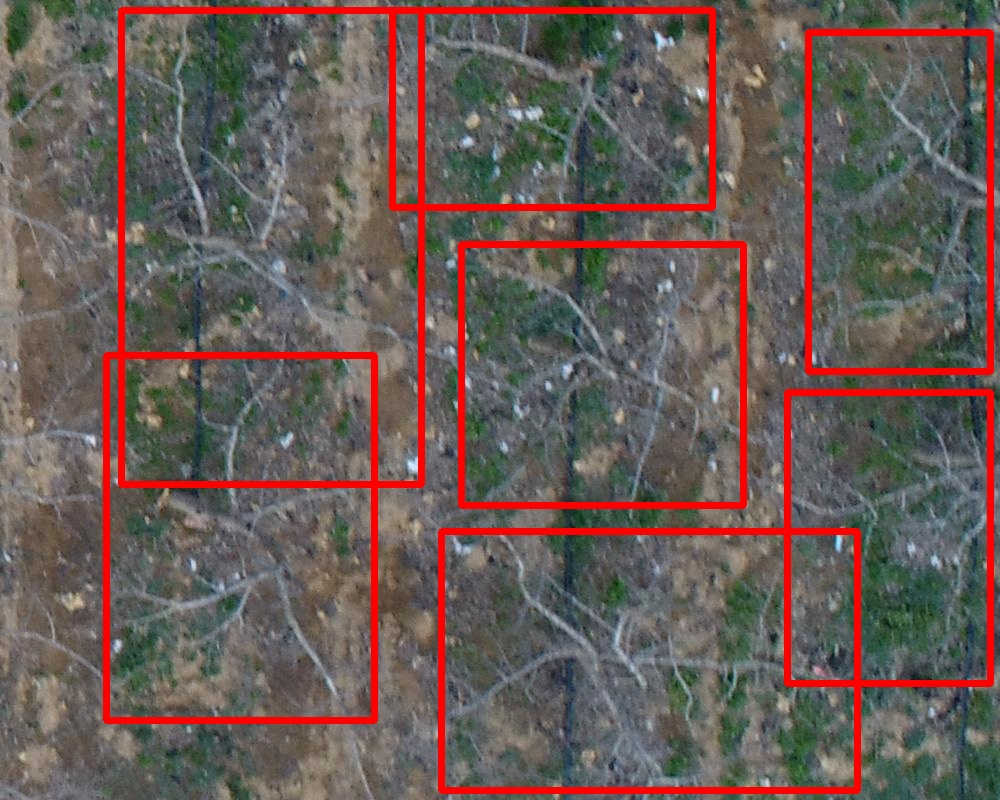apple: (121, 10, 421, 484), (441, 531, 857, 790), (106, 355, 374, 720), (461, 244, 743, 505), (392, 10, 712, 207), (808, 32, 990, 371), (787, 392, 990, 683)
